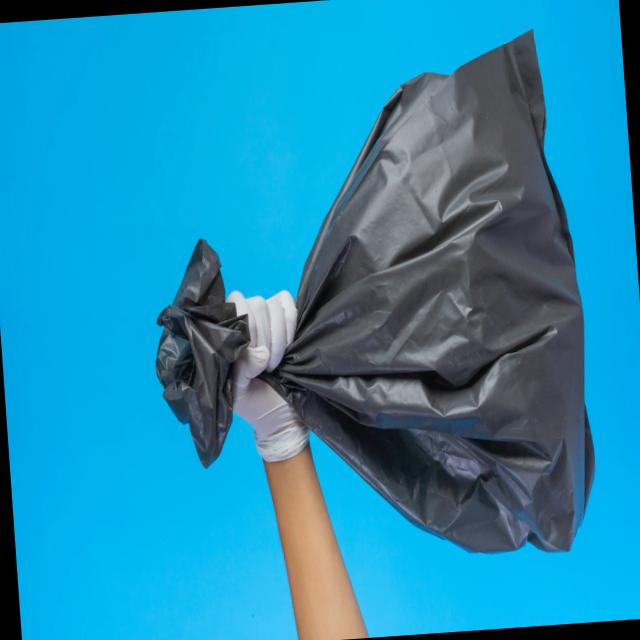plastic_bag: (119, 2, 602, 603)
